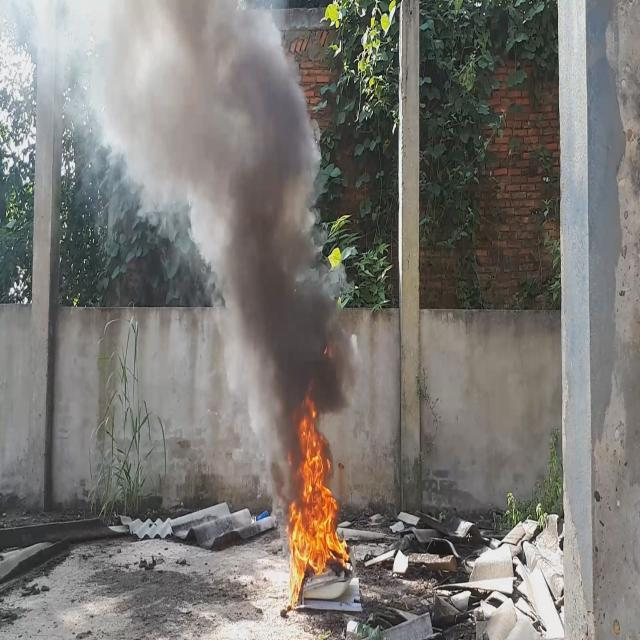Fire: (288, 397, 352, 612)
Smoke: (0, 0, 362, 517)
